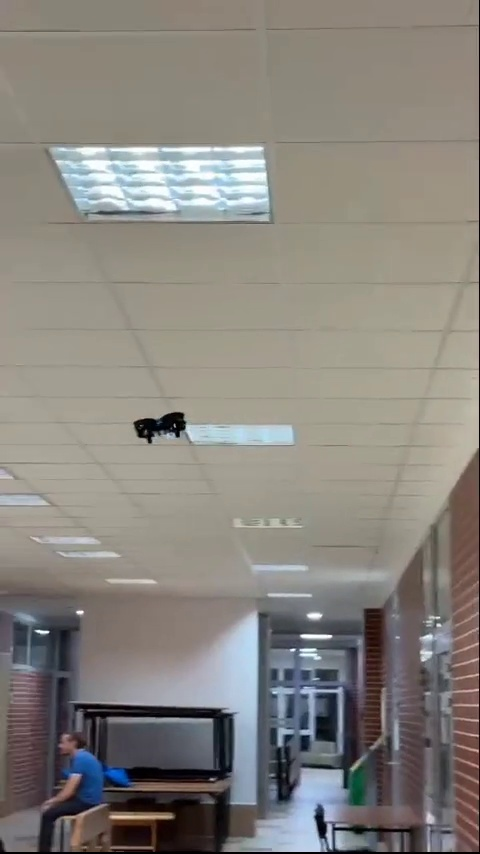drone: (136, 411, 186, 445)
no vest: (32, 734, 112, 817)
